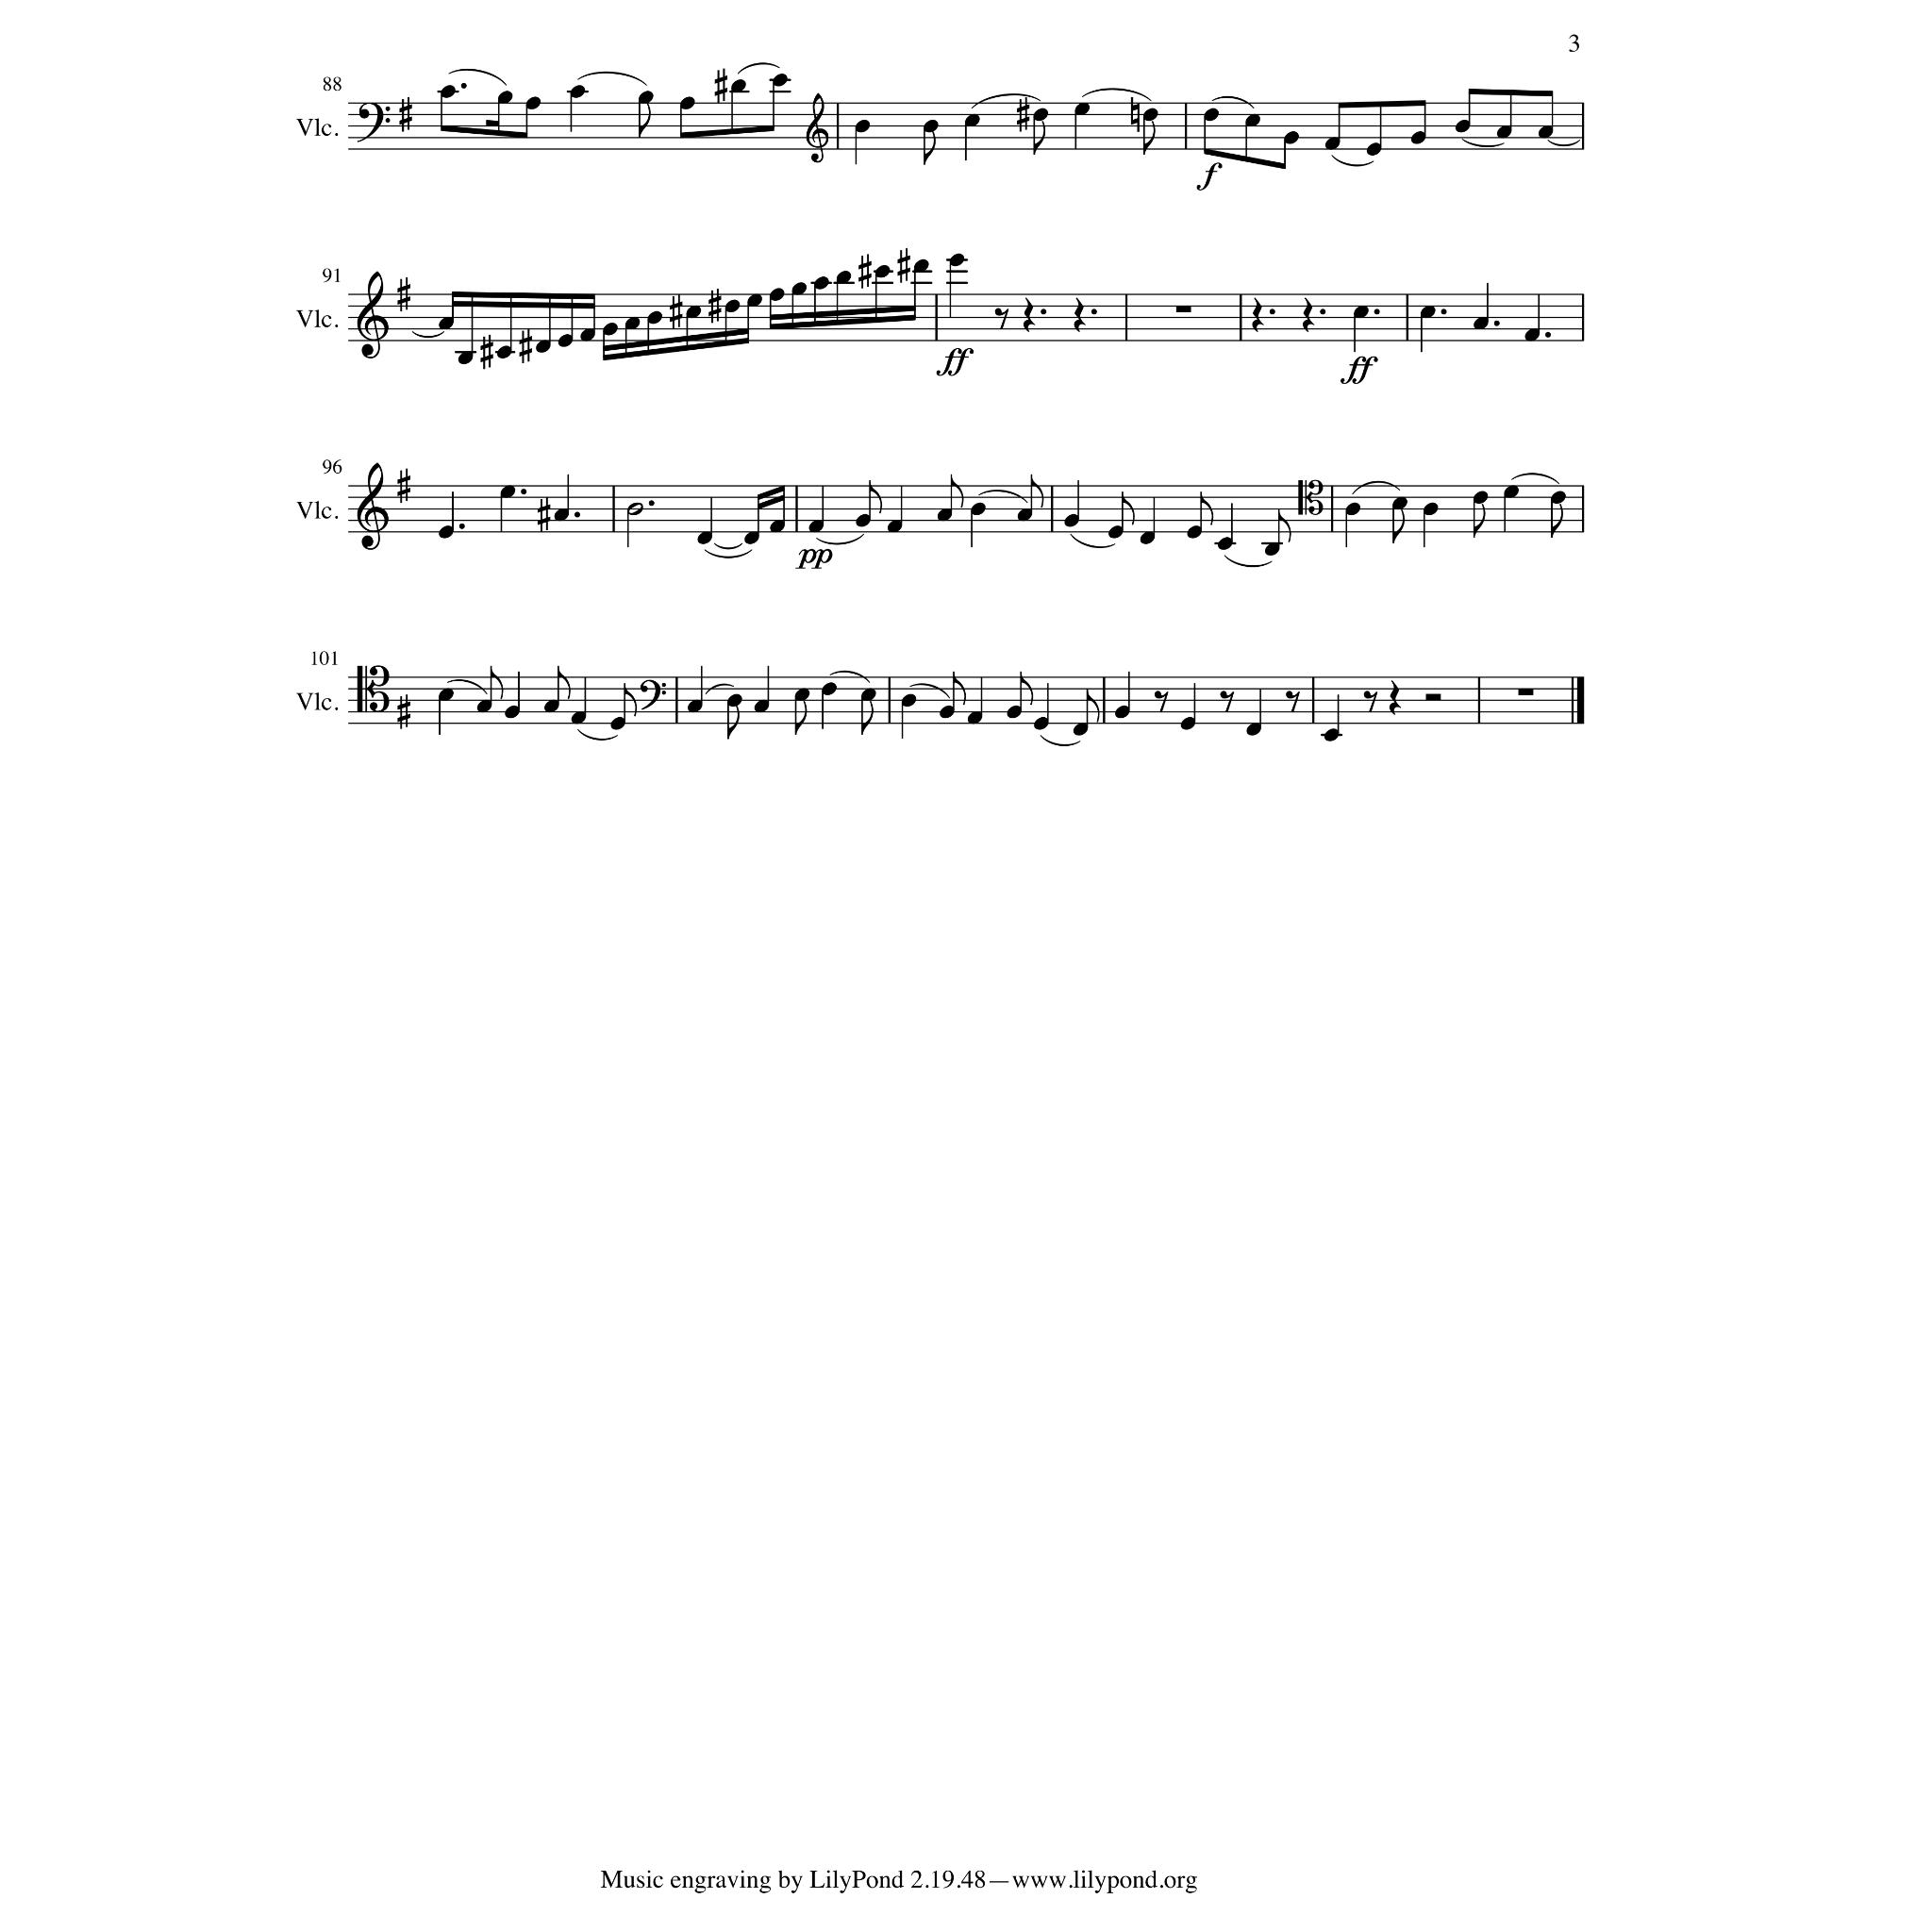fClef: (357, 102, 391, 143)
flag8thDown: (638, 104, 651, 138), (923, 131, 936, 165), (1551, 504, 1564, 538), (1392, 509, 1406, 543), (860, 701, 874, 735), (794, 701, 808, 735), (1034, 121, 1045, 155), (1143, 121, 1155, 155), (1474, 504, 1485, 538), (728, 706, 740, 740)
flag8thUp: (1200, 492, 1213, 526), (1278, 509, 1291, 543), (1031, 475, 1044, 508), (1122, 492, 1135, 526), (869, 480, 882, 514), (951, 475, 964, 508), (1020, 672, 1033, 706), (953, 672, 966, 706), (1087, 690, 1100, 724), (624, 683, 637, 717), (558, 666, 571, 700), (491, 666, 504, 700)
gClef: (357, 271, 389, 359), (357, 462, 389, 551)
noteheadBlack: (1283, 130, 1300, 145), (1074, 102, 1091, 117), (1409, 130, 1426, 145), (874, 264, 891, 279), (553, 508, 570, 523), (936, 508, 953, 523), (1017, 508, 1032, 523), (1141, 108, 1158, 122), (525, 97, 541, 110), (496, 92, 513, 105), (679, 97, 696, 110), (1032, 108, 1049, 122), (440, 85, 457, 98), (923, 120, 940, 133), (772, 74, 789, 87), (730, 80, 747, 93), (1353, 306, 1370, 319), (1419, 306, 1436, 319), (557, 334, 574, 347), (579, 328, 596, 341), (602, 323, 619, 336), (457, 352, 474, 365), (768, 288, 785, 301), (791, 283, 808, 296), (685, 306, 702, 319), (970, 503, 987, 516), (1472, 491, 1489, 505), (696, 531, 713, 544), (887, 520, 904, 533), (855, 514, 872, 527), (743, 531, 760, 544), (808, 520, 824, 533), (1179, 717, 1196, 730), (1245, 723, 1262, 736), (1006, 706, 1023, 719), (966, 711, 983, 724), (1072, 723, 1089, 736), (1113, 706, 1130, 719), (1323, 729, 1340, 742), (570, 711, 587, 724), (609, 717, 626, 730), (475, 700, 492, 713), (900, 694, 917, 708), (753, 700, 770, 713), (1245, 114, 1260, 127), (1324, 138, 1340, 151), (1204, 108, 1219, 122), (1455, 120, 1470, 133), (1366, 142, 1381, 156), (1496, 125, 1511, 139), (1538, 125, 1553, 139), (570, 85, 585, 98), (638, 92, 653, 105), (855, 120, 870, 133), (964, 114, 979, 127), (949, 254, 964, 267), (913, 259, 928, 273), (1524, 328, 1540, 341), (1474, 317, 1489, 330), (536, 341, 551, 354), (625, 317, 640, 330), (496, 345, 511, 358), (439, 317, 454, 330), (647, 311, 662, 325), (747, 294, 762, 308), (836, 271, 851, 284), (813, 276, 828, 290), (724, 300, 740, 313), (1140, 531, 1155, 544), (1187, 525, 1202, 539), (1345, 503, 1360, 516), (1217, 538, 1232, 551), (1264, 543, 1279, 557), (1064, 514, 1079, 527), (1108, 525, 1123, 539), (1551, 491, 1566, 505), (1392, 497, 1407, 510), (1423, 503, 1438, 516), (1504, 486, 1519, 499), (439, 525, 454, 539), (500, 486, 515, 499), (770, 520, 785, 533), (1034, 717, 1049, 730), (543, 700, 558, 713), (687, 700, 702, 713), (439, 689, 454, 702), (504, 706, 519, 719), (821, 682, 836, 695), (860, 689, 875, 702), (940, 706, 955, 719), (726, 694, 741, 708), (794, 689, 809, 702)
noteheadHalf: (626, 503, 643, 516)
rest8th: (994, 308, 1009, 330), (1154, 691, 1169, 713), (1220, 691, 1235, 713), (1285, 691, 1300, 713), (1363, 691, 1378, 713)
restHalf: (1424, 693, 1441, 701)
restQuarter: (1389, 680, 1402, 716), (1251, 298, 1264, 332), (1023, 298, 1036, 332), (1302, 298, 1315, 332), (1074, 298, 1085, 332)
restWhole: (1517, 689, 1534, 696), (1175, 306, 1191, 313)
